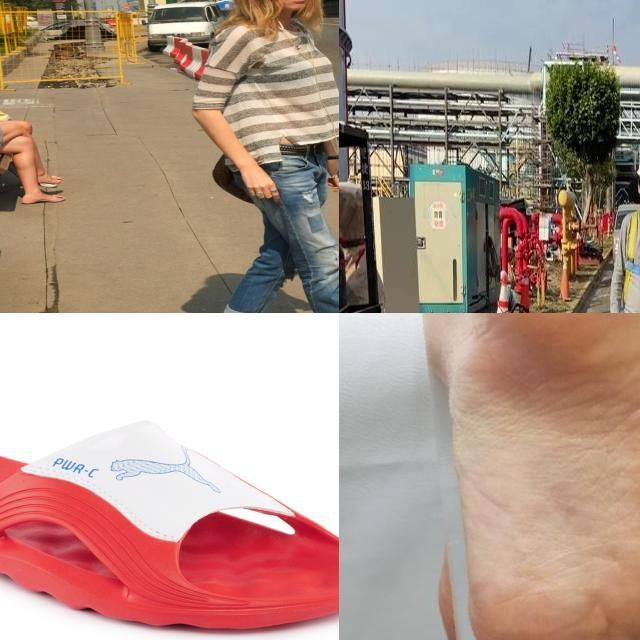Barefoots: (386, 313, 640, 640)
Harness: (624, 211, 640, 300)
Sandals: (0, 418, 339, 631)
